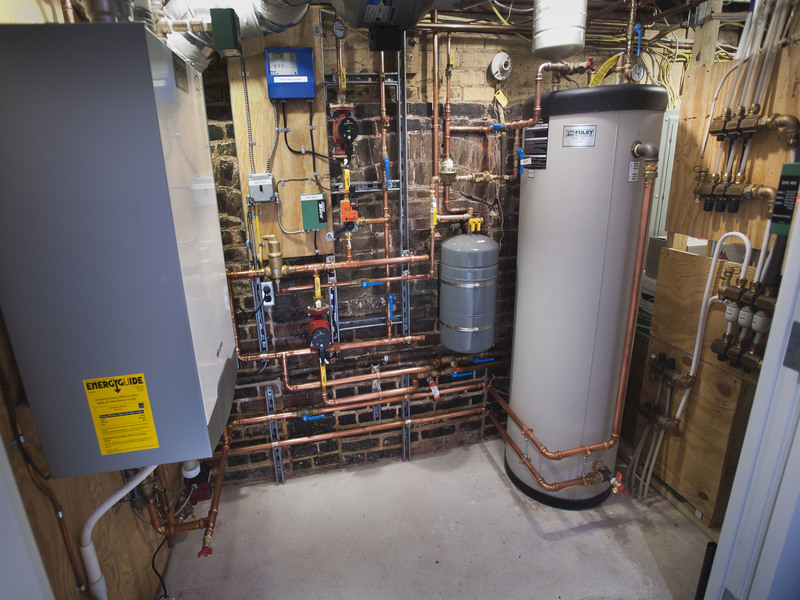valve: (339, 160, 357, 201), (379, 153, 396, 193), (313, 360, 333, 392), (334, 66, 348, 110), (630, 22, 645, 63), (293, 410, 333, 425), (384, 283, 400, 320), (443, 45, 459, 81), (510, 145, 526, 177), (427, 196, 441, 231), (357, 275, 389, 290), (463, 352, 500, 364), (314, 275, 325, 315), (446, 369, 478, 380), (485, 119, 508, 132)
